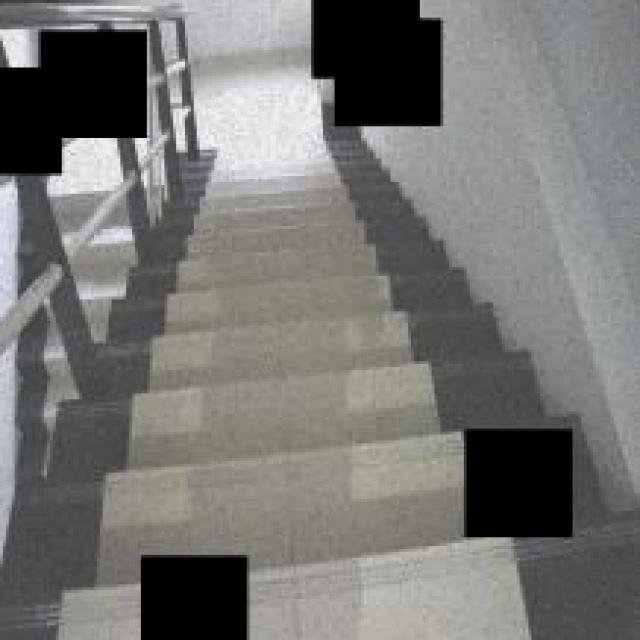downstair: (183, 189, 421, 544)
